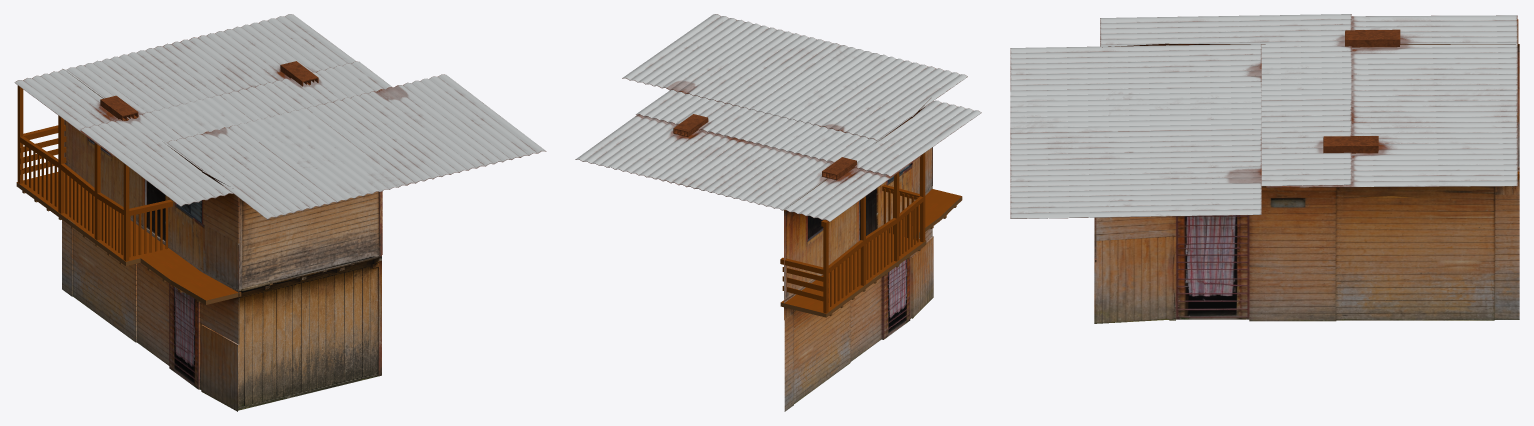
Rendered from casa_izquierda_10.fbx.
3 renders of one model, left to right at view 1: azimuth 30°, elevation 25°; view 2: azimuth 150°, elevation 25°; view 3: azimuth 270°, elevation 25°, orthographic. The views are drawn at different scales.
Visible parts, largest first — view 1: Techo 09.001, casa_izquierda_10B.001, casa_izquierda_10A, balcon casa izquierda 10; view 2: Techo 09.001, casa_izquierda_10A, balcon casa izquierda 10; view 3: Techo 09.001, casa_izquierda_10A.
Part boxes in pixels (box(x1,y1,x2,y2)): Techo 09.001: box(14, 14, 546, 219); casa_izquierda_10B.001: box(238, 191, 382, 410); casa_izquierda_10A: box(62, 69, 239, 411); balcon casa izquierda 10: box(16, 85, 241, 304); Techo 09.001: box(575, 14, 981, 221); casa_izquierda_10A: box(784, 98, 933, 411); balcon casa izquierda 10: box(780, 153, 962, 317); Techo 09.001: box(1010, 14, 1517, 218); casa_izquierda_10A: box(1094, 43, 1519, 323).
Bounding box in the file's own units: 984 × 647 × 1050.
